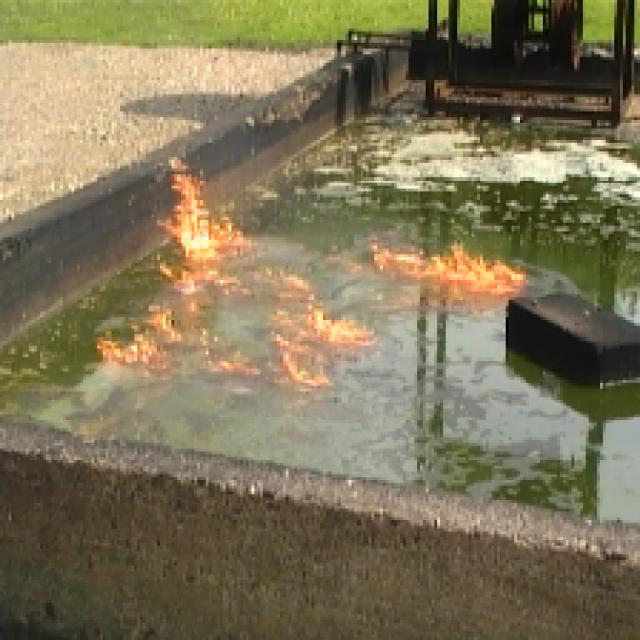fire: (151, 166, 223, 263)
